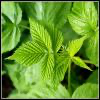Raspberry leaf: (4, 40, 45, 67), (28, 17, 52, 54), (40, 53, 54, 88), (68, 34, 87, 57)
